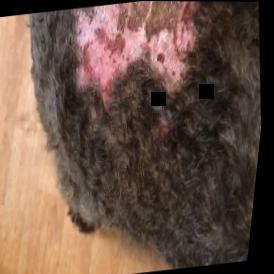skin_lesions: (58, 1, 214, 110)
